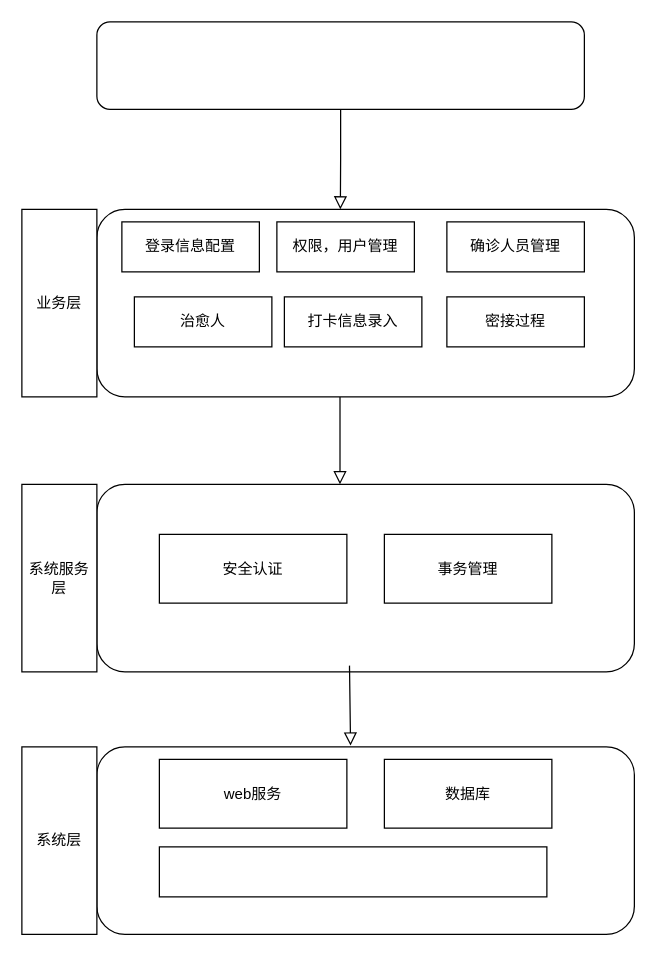
Image size: 656x956. Some labels were removed from this diagram. The shapes that lost their labels are listed below. From the top down, each one's centre as x and y in pixels, then its label:
[340,65]: 表示层
[352,871]: 操作系统
